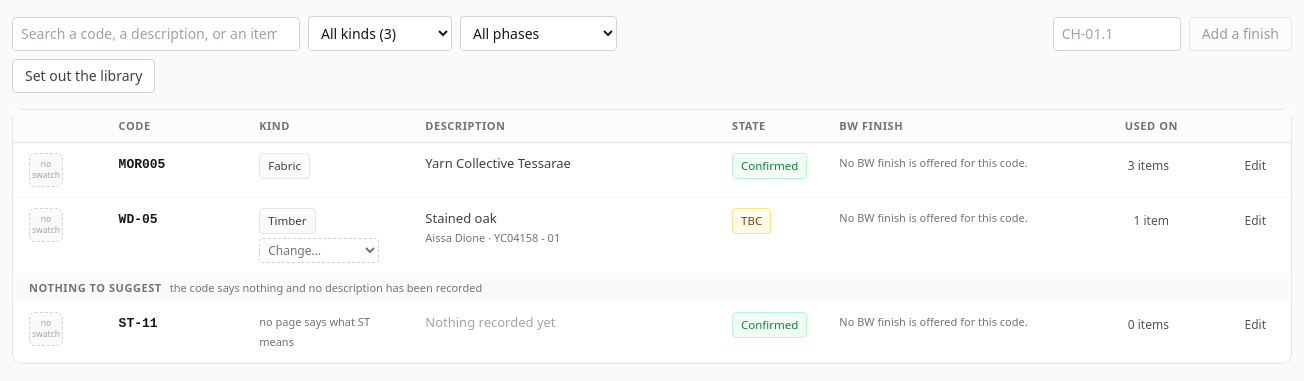
the finishes library › says nothing matched rather than looking like an empty library
The width and height of the screenshot is (1304, 381).
Expected: the text "MOR005" is shown, left=119, top=157, right=165, bottom=172
Type "velvet" into the search field named "Search the finishes library" at (156, 34), box left=12, top=16, right=300, bottom=50
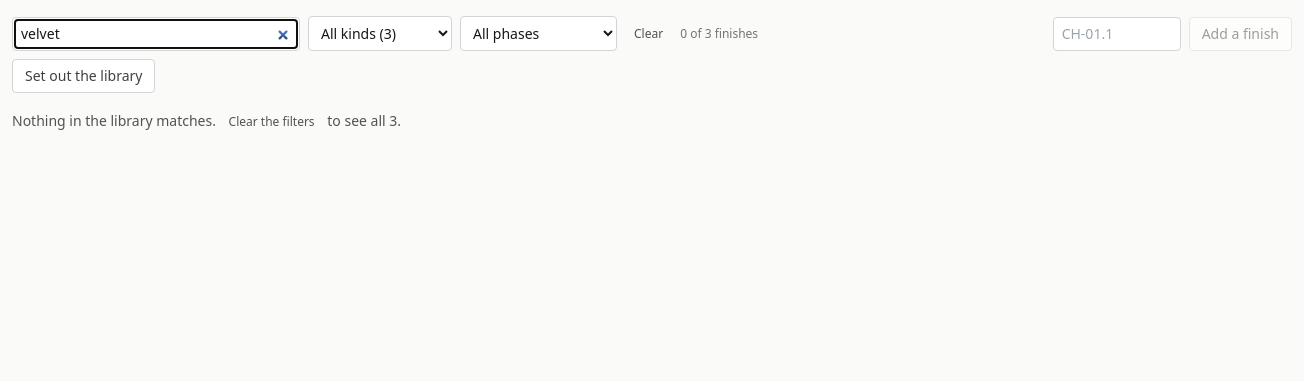
Now the text "Nothing in the library matches" is shown, box left=12, top=111, right=216, bottom=130
Now the text "MOR005" is gone
